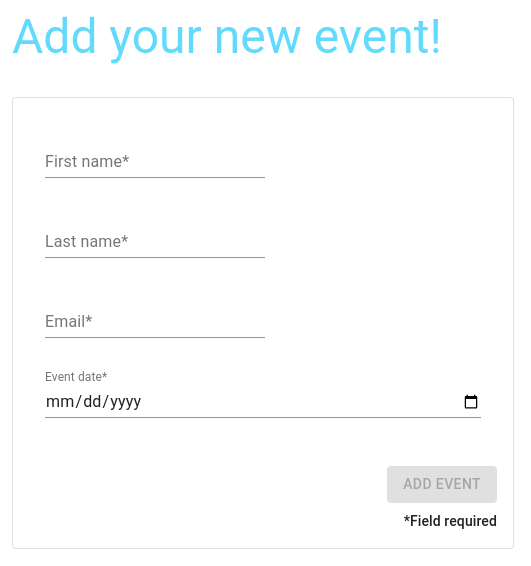
Test: MainPage › add event button become active when all inputs are filed
The image size is (531, 566).
Expected: the button with test id "add-event-btn" is disabled, [387, 466, 497, 502]
Step 1. Type "Grażyna" into the field with placeholder "Enter first name" → [155, 162], box [45, 146, 265, 178]
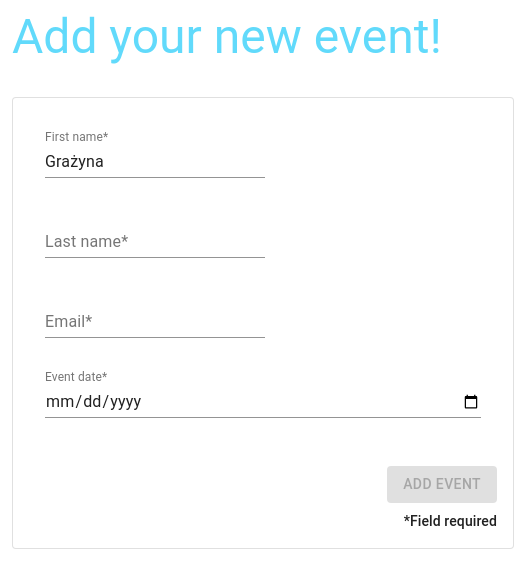
Step 2. Type "Nowak" into the field with placeholder "Enter last name" → [155, 242], box [45, 226, 265, 258]
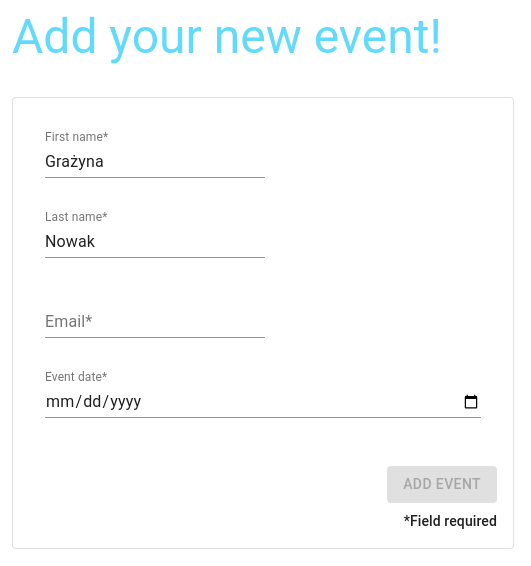
Step 3. Type "test123@gmail.com" into the field with placeholder "Enter email" → [155, 322], box [45, 306, 265, 338]
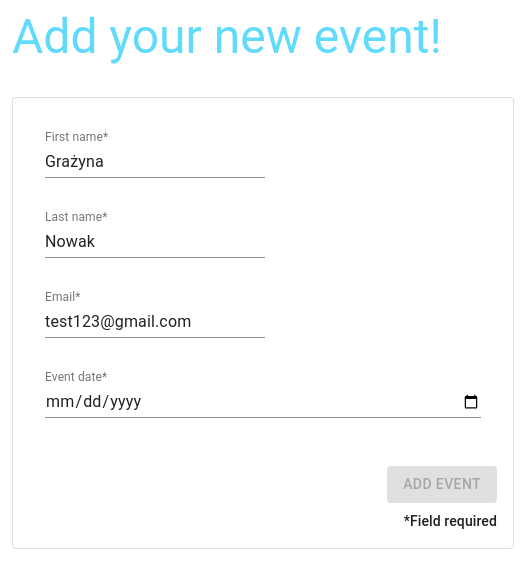
Step 4. Type "2021-06-01" into the date field labelled "Event date*" → [263, 402], box [45, 386, 481, 418]
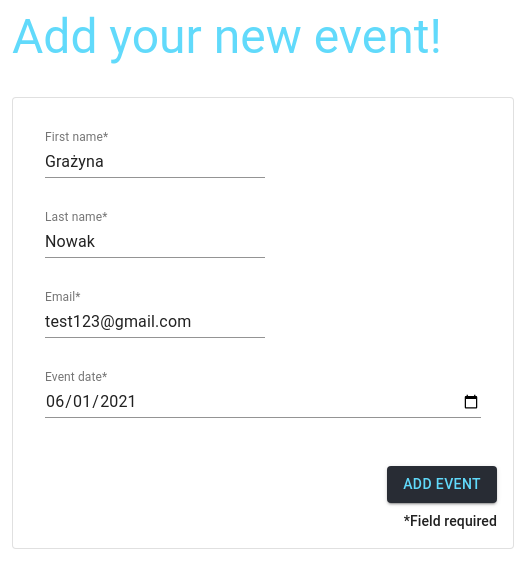
Now the button with test id "add-event-btn" is enabled, box [387, 466, 497, 502]
